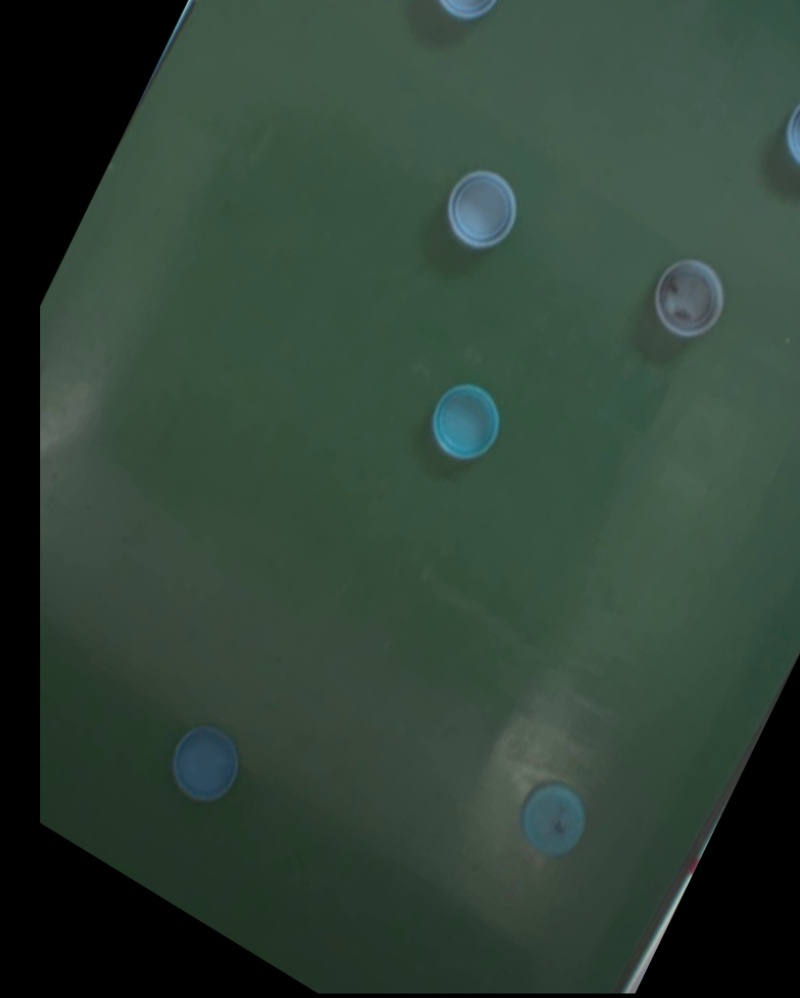Light Blue: (642, 246, 737, 354), (435, 158, 529, 264), (421, 371, 512, 475), (160, 712, 251, 816), (509, 773, 595, 870), (422, 0, 515, 32), (774, 79, 800, 188)
